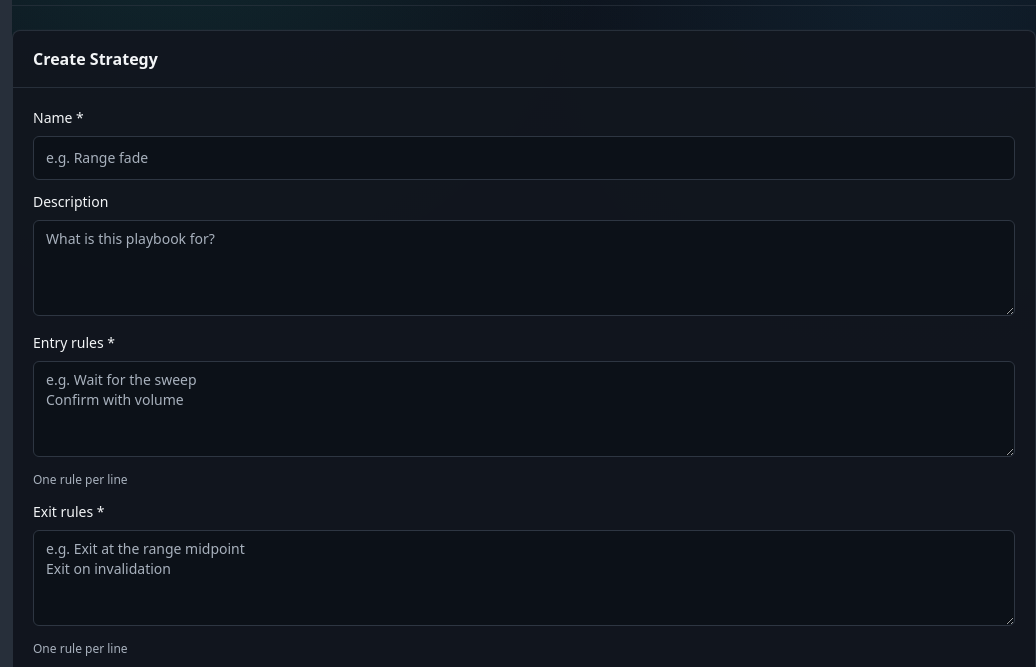
Test: create forms that fail to save › strategies shows the error instead of swallowing it
The width and height of the screenshot is (1036, 667).
Type "Range fade" into the field labelled "Name *" at (524, 158), box [33, 136, 1015, 180]
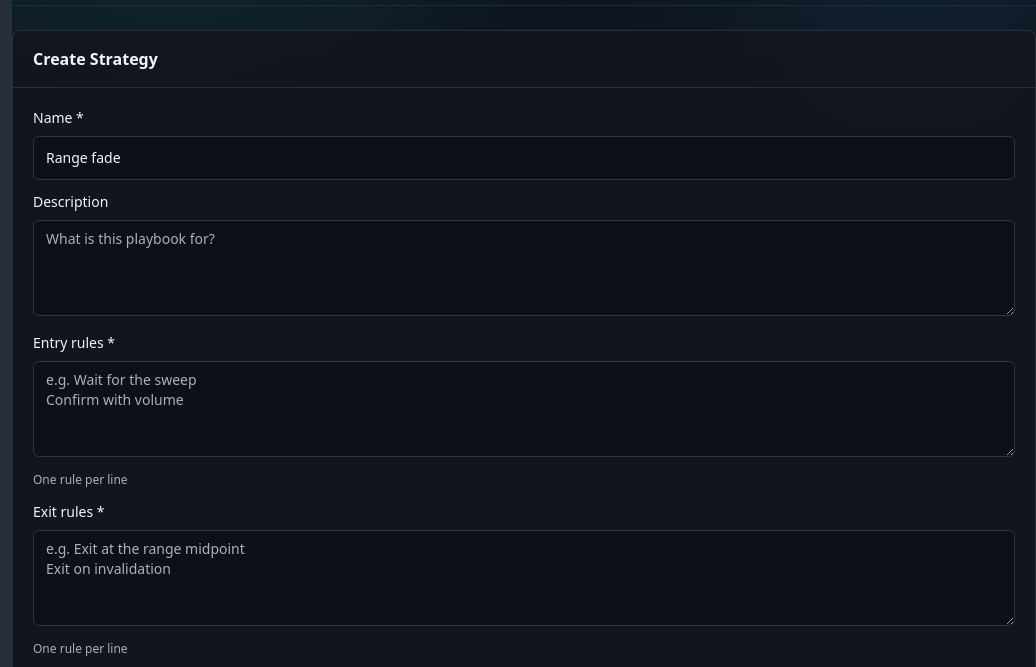
Type "Wait for the sweep" into the text box labelled "Entry rules * One rule per line" at (524, 409), box [33, 361, 1015, 457]
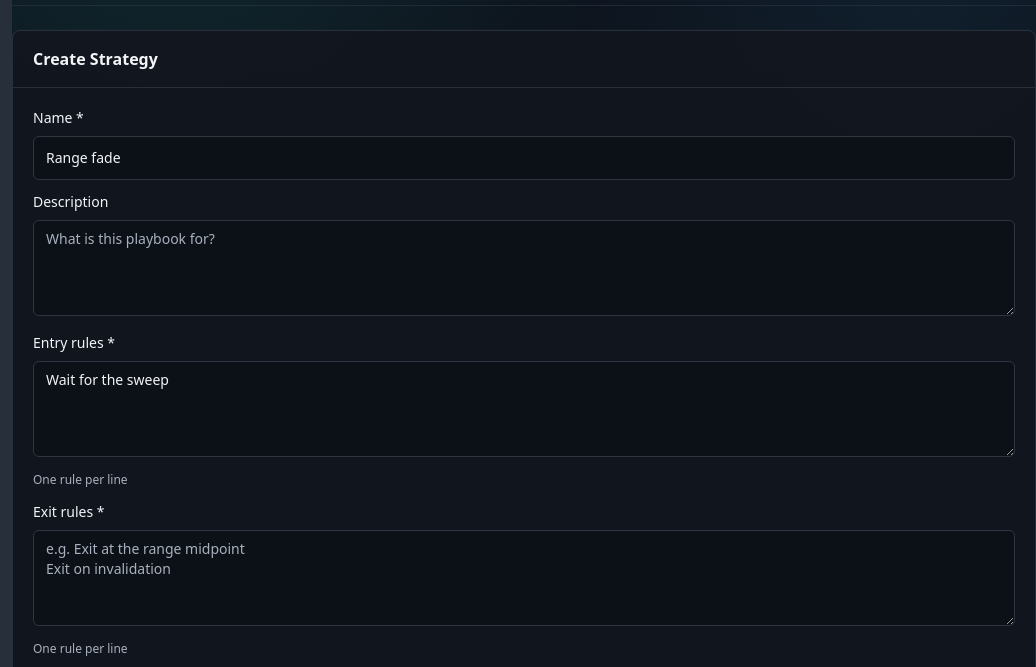
Type "Exit at the midpoint" into the text box labelled "Exit rules * One rule per line" at (524, 578), box [33, 530, 1015, 626]
(page scrolled)
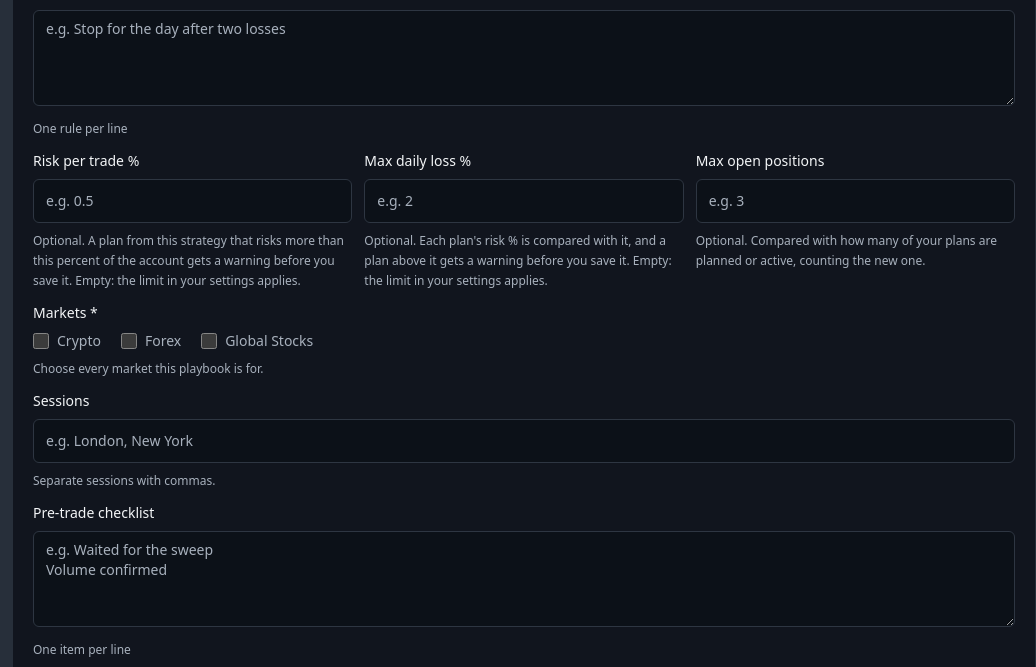
Click the checkbox named "allowedMarkets" at (41, 341), box [33, 333, 49, 349]
(page scrolled)
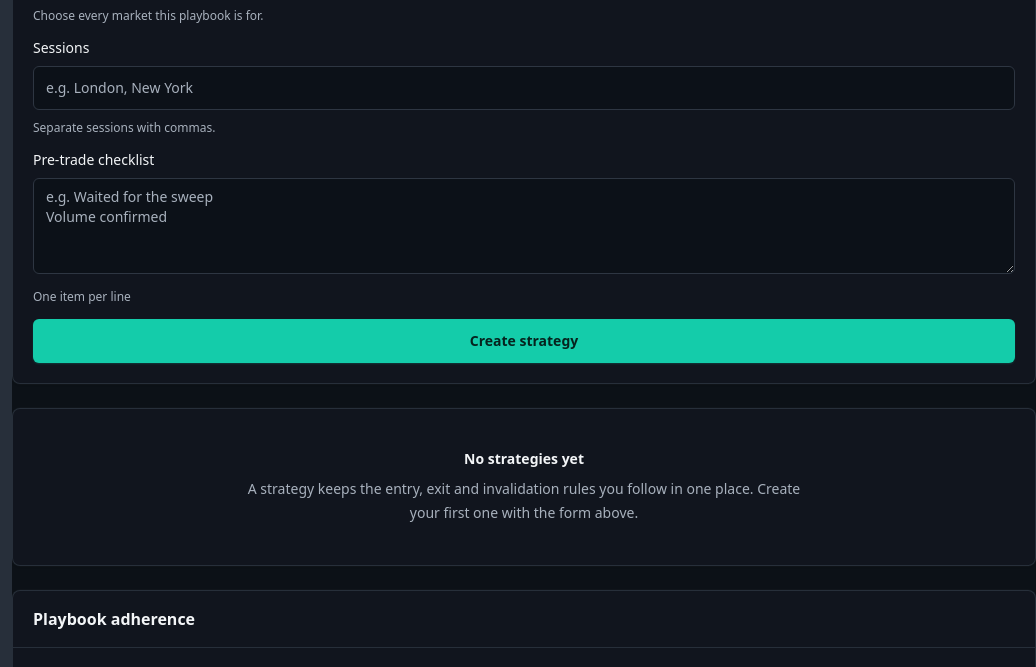
Click the button "Create strategy" at (524, 341), box [33, 319, 1015, 363]
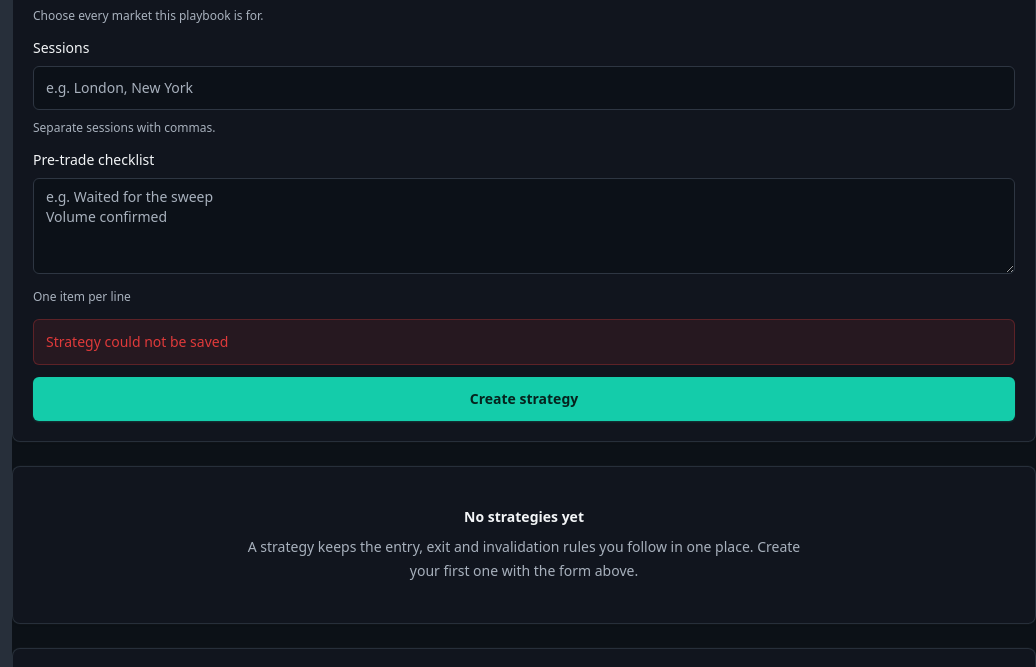
Now the text "Strategy could not be saved" is shown, box [33, 319, 1015, 365]
